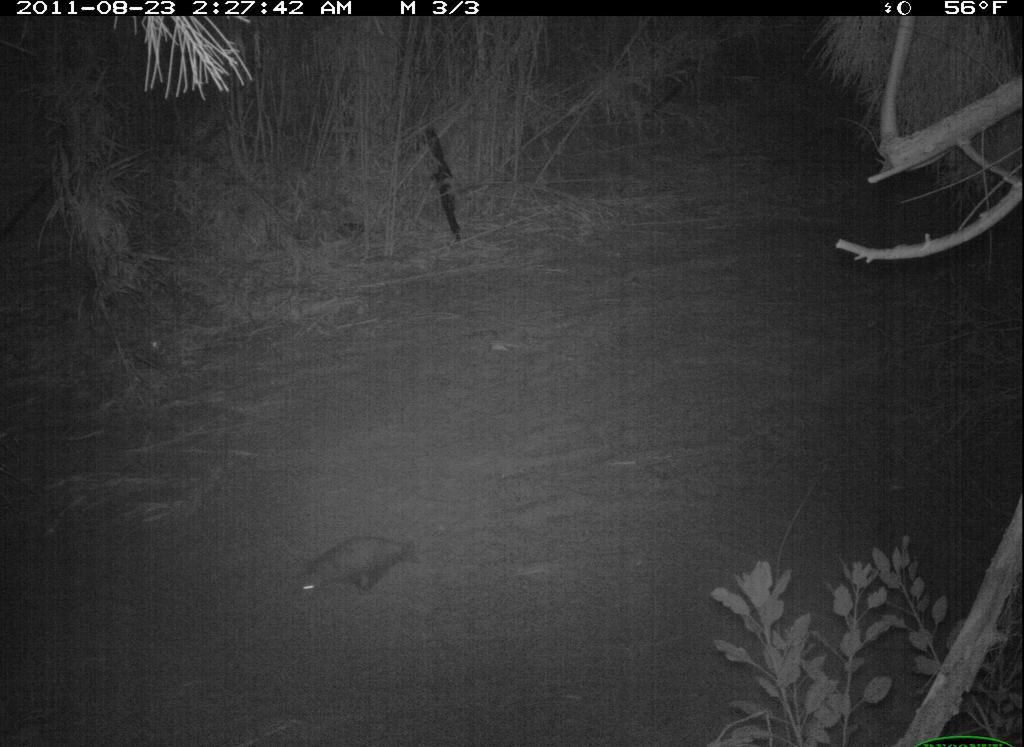opossum: (283, 527, 431, 611)
